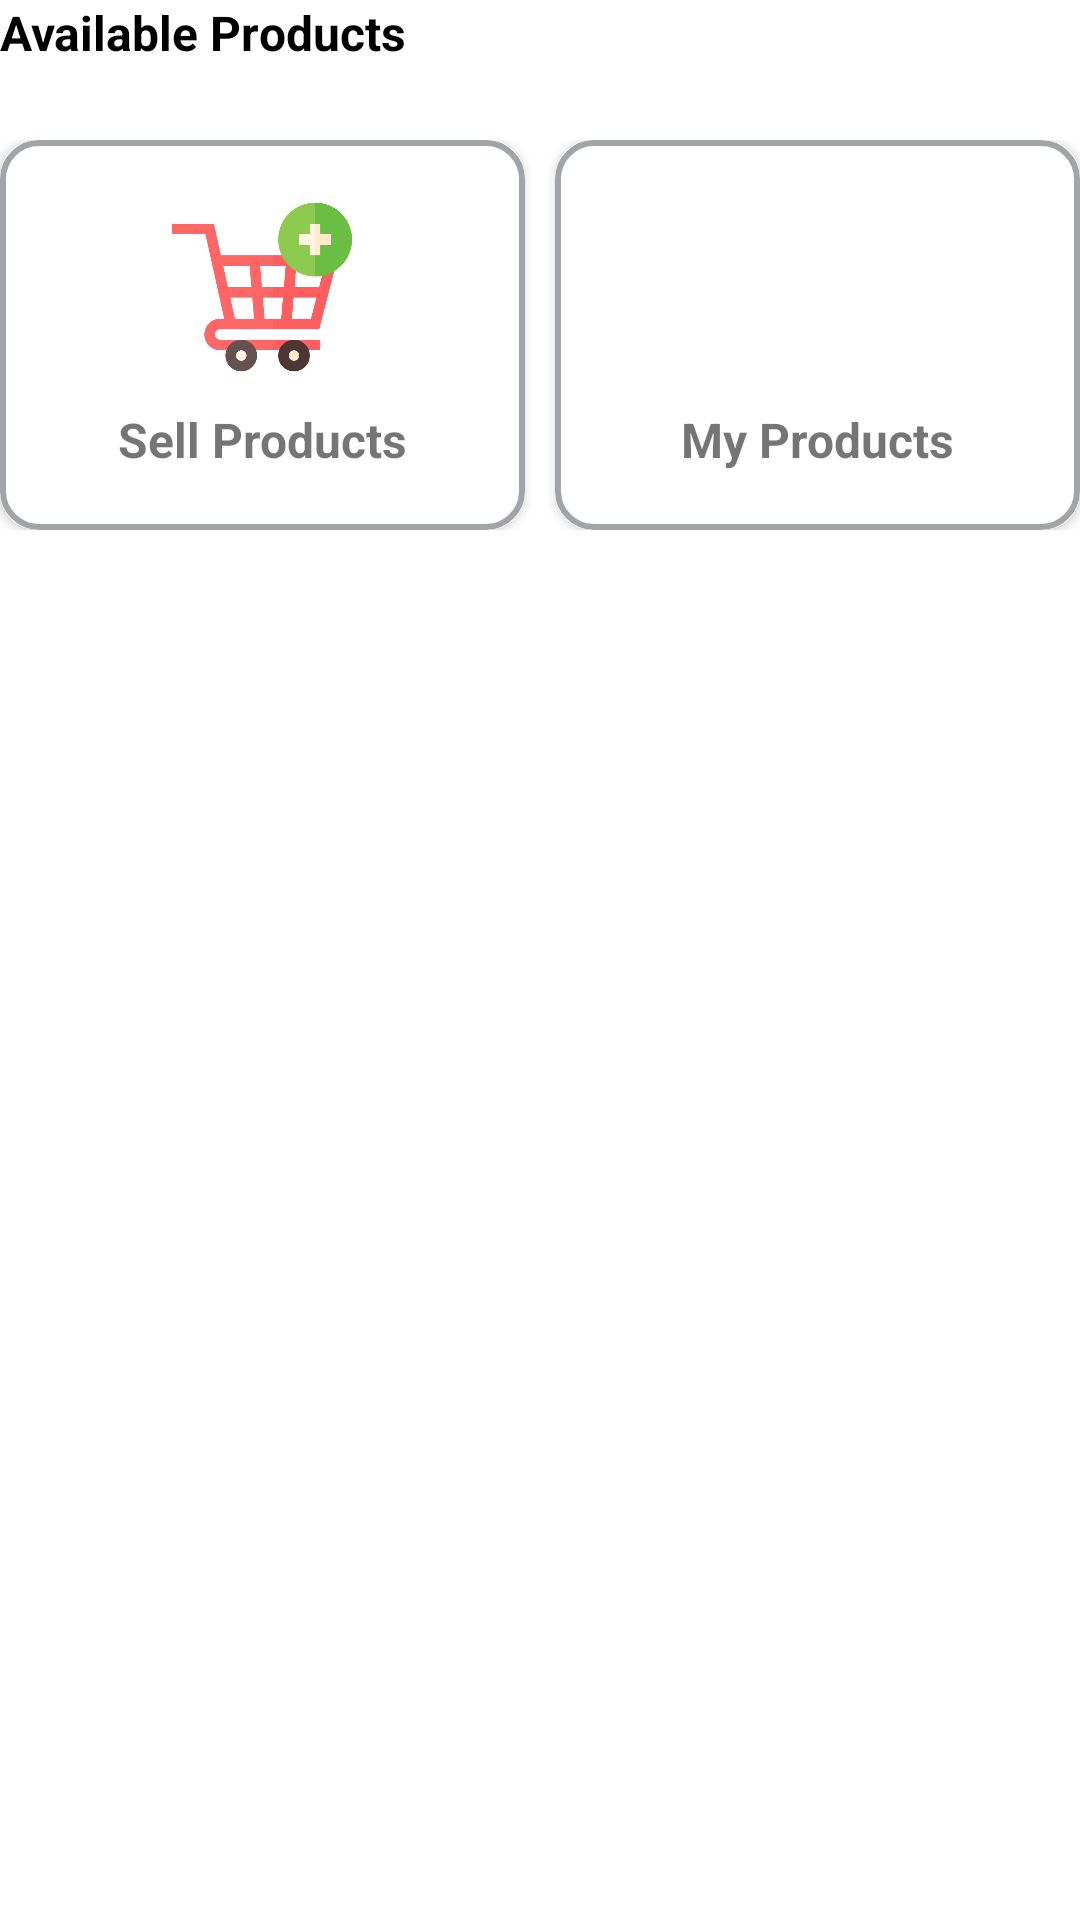

Icon bounding boxes for this 1080w x 1920h phone screenshot, format (x1, y1, x2, y2):
cart: (172, 202, 352, 372)
